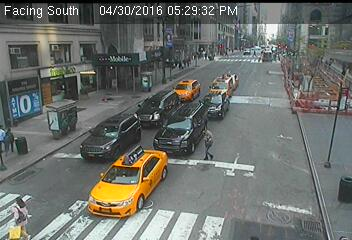neg: (269, 61, 295, 97), (254, 120, 277, 151), (302, 76, 320, 101), (198, 62, 211, 80), (248, 54, 260, 69)
pos: (1, 193, 33, 237), (192, 126, 220, 162), (2, 127, 25, 157)
